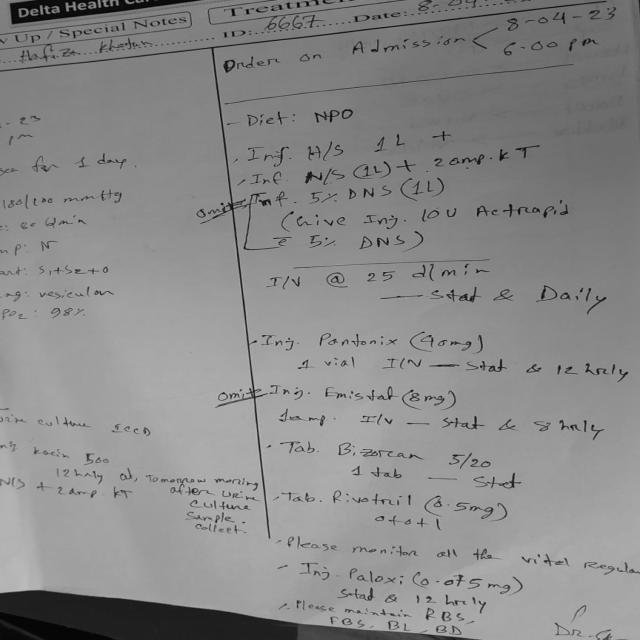medicine: (328, 436, 434, 464), (325, 486, 421, 512), (309, 330, 408, 353), (313, 382, 403, 407), (339, 562, 412, 588)
